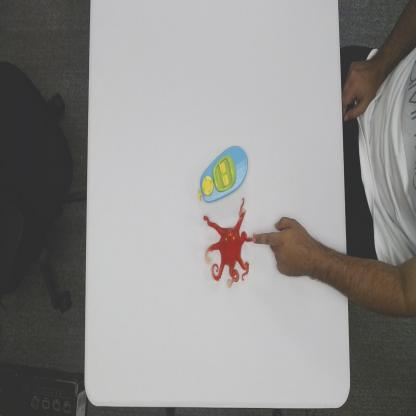Arm: (312, 236, 416, 321)
Boat: (197, 144, 249, 203)
Hand: (252, 216, 313, 281)
Octopus: (202, 196, 253, 288)
